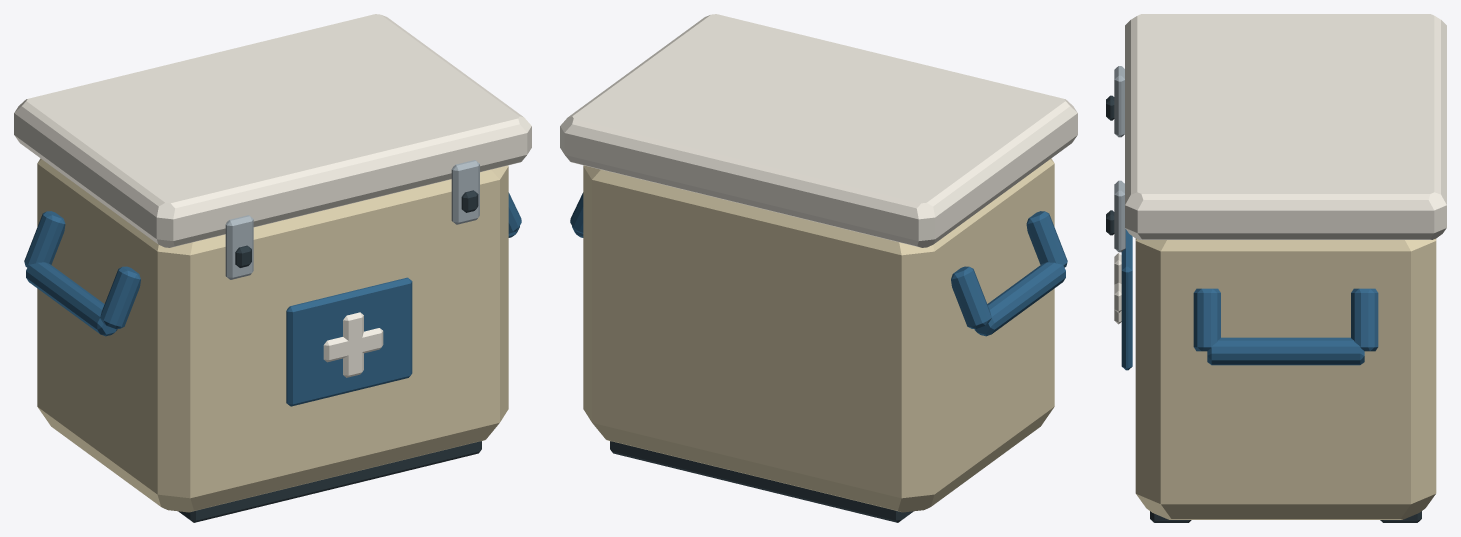
The model's file is b14_insulated_medical_shipping_chest.glb.
The picture shows the model from 3 angles, left to right: view 1: azimuth 30°, elevation 25°; view 2: azimuth 150°, elevation 25°; view 3: azimuth 270°, elevation 25°; orthographic projection. The views are drawn at different scales.
Parts seen in each view (by area): view 1: b14_insulated_medical_shipping_chest; view 2: b14_insulated_medical_shipping_chest; view 3: b14_insulated_medical_shipping_chest.
Boxes of the visible parts, x1,y1,x2,y2 form: b14_insulated_medical_shipping_chest: [14, 14, 531, 522]; b14_insulated_medical_shipping_chest: [560, 14, 1077, 522]; b14_insulated_medical_shipping_chest: [1106, 14, 1446, 522].
Size of the model in its own units: 0.71 by 0.535 by 0.4765.
